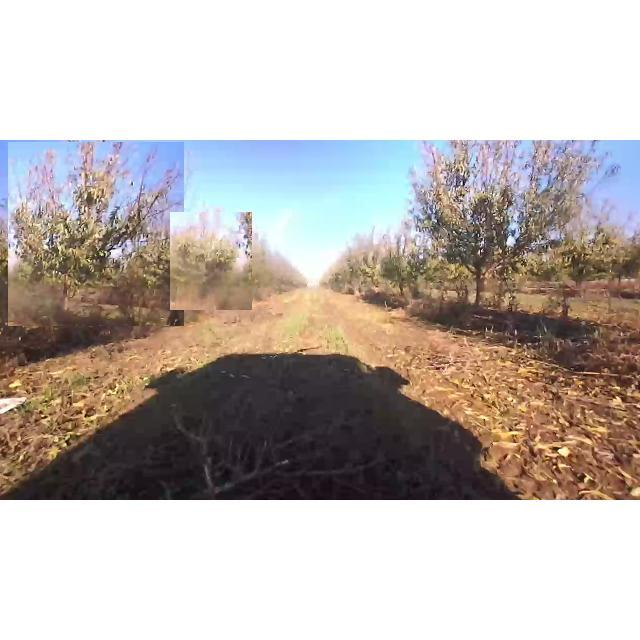direk: (399, 142, 606, 316), (8, 142, 184, 326), (170, 212, 252, 310)
